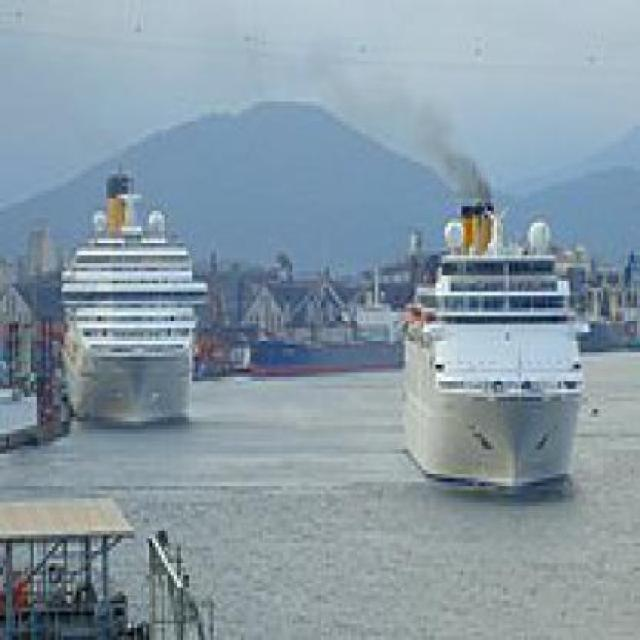cruise: (391, 184, 593, 504), (52, 150, 208, 435)
